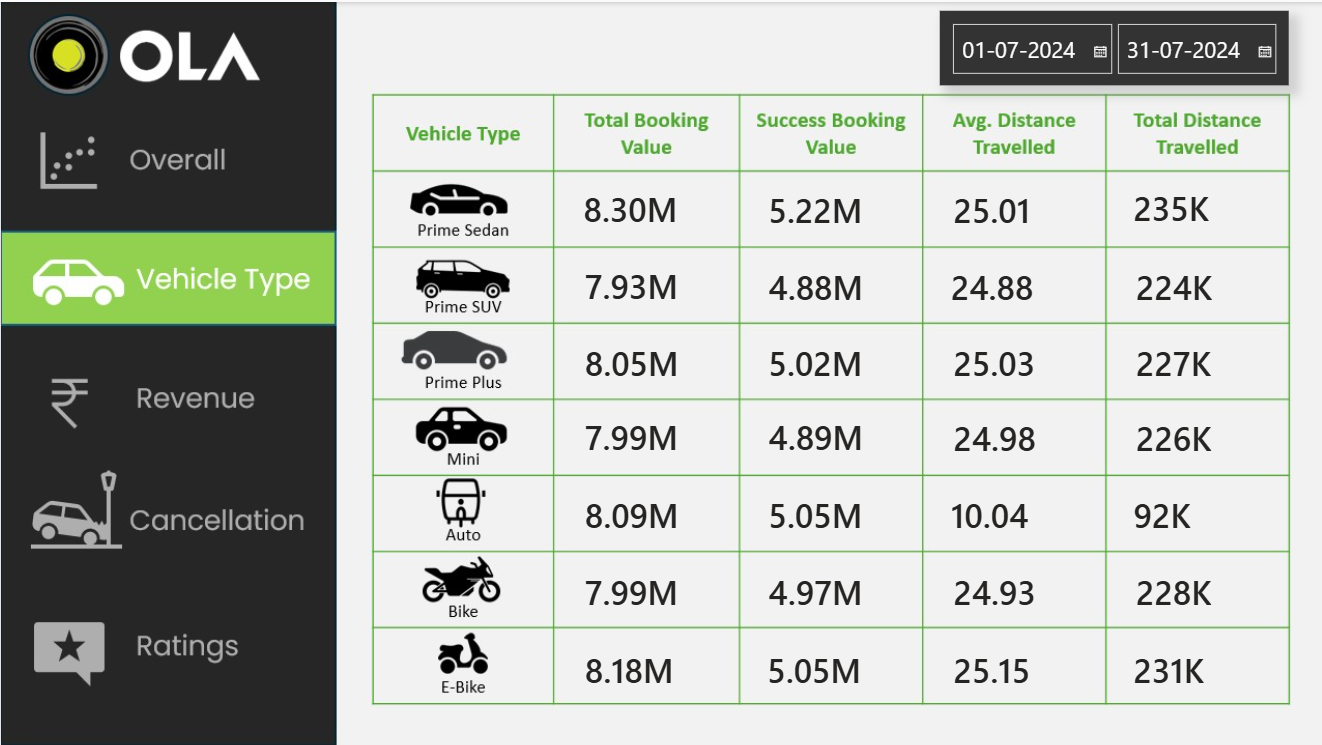

The dashboard page shown, as its layout file describes it:
{"tool":"powerbi","page":{"name":"Vehicle Type","canvas":[1280,720],"ordinal":1},"visuals":[{"type":"actionButton","box":[0,219.6,323.3,91.7],"z":0},{"type":"actionButton","box":[0,336.6,323.3,91.7],"z":1000},{"type":"actionButton","box":[0,454.8,323.3,91.7],"z":2000},{"type":"actionButton","box":[0,579.1,323.3,91.7],"z":3000},{"type":"actionButton","box":[0,108.6,323.3,91.7],"z":4000},{"type":"cardVisual","fields":{"Data":["Sum(July.Booking_Value)"]},"box":[533.8,161.6,177.5,73.6],"z":5000},{"type":"cardVisual","fields":{"Data":["Sum(July.Booking_Value)"]},"box":[533.9,234.9,176.2,74.8],"z":6000},{"type":"cardVisual","fields":{"Data":["Sum(July.Booking_Value)"]},"box":[533.9,309.7,176.2,74.8],"z":7000},{"type":"cardVisual","fields":{"Data":["Sum(July.Booking_Value)"]},"box":[533.9,380.9,176.2,74.8],"z":8000},{"type":"cardVisual","fields":{"Data":["Sum(July.Booking_Value)"]},"box":[533.9,455.6,176.2,74.8],"z":9000},{"type":"cardVisual","fields":{"Data":["Sum(July.Booking_Value)"]},"box":[533.9,530.4,176.2,74.8],"z":10000},{"type":"cardVisual","fields":{"Data":["Sum(July.Booking_Value)"]},"box":[533.9,605.1,176.2,74.8],"z":11000},{"type":"cardVisual","fields":{"Data":["Sum(July.Booking_Value)"]},"box":[711.9,162,176.2,74.8],"z":12000},{"type":"cardVisual","fields":{"Data":["Sum(July.Booking_Value)"]},"box":[711.9,236.7,176.2,74.8],"z":13000},{"type":"cardVisual","fields":{"Data":["Sum(July.Booking_Value)"]},"box":[711.9,309.7,176.2,74.8],"z":14000},{"type":"cardVisual","fields":{"Data":["Sum(July.Booking_Value)"]},"box":[711.9,380.9,176.2,74.8],"z":15000},{"type":"cardVisual","fields":{"Data":["Sum(July.Booking_Value)"]},"box":[711.9,455.6,176.2,74.8],"z":16000},{"type":"cardVisual","fields":{"Data":["Sum(July.Booking_Value)"]},"box":[711.9,530.4,176.2,74.8],"z":17000},{"type":"cardVisual","fields":{"Data":["Sum(July.Booking_Value)"]},"box":[710.1,605.1,176.2,74.8],"z":18000},{"type":"cardVisual","fields":{"Data":["Avg(July.Ride_Distance)"]},"box":[889.9,162,176.2,74.8],"z":19000},{"type":"cardVisual","fields":{"Data":["Avg(July.Ride_Distance)"]},"box":[888.1,236.7,176.2,74.8],"z":20000},{"type":"cardVisual","fields":{"Data":["Avg(July.Ride_Distance)"]},"box":[889.9,309.7,176.2,74.8],"z":21000},{"type":"cardVisual","fields":{"Data":["Avg(July.Ride_Distance)"]},"box":[889.9,382.7,176.2,74.8],"z":22000},{"type":"cardVisual","fields":{"Data":["Avg(July.Ride_Distance)"]},"box":[888.1,455.6,176.2,74.8],"z":23000},{"type":"cardVisual","fields":{"Data":["Avg(July.Ride_Distance)"]},"box":[889.9,530.4,176.2,74.8],"z":24000},{"type":"cardVisual","fields":{"Data":["Avg(July.Ride_Distance)"]},"box":[889.9,605.1,176.2,74.8],"z":25000},{"type":"cardVisual","fields":{"Data":["Sum(July.Ride_Distance)"]},"box":[1064.3,160.2,176.2,74.8],"z":26000},{"type":"cardVisual","fields":{"Data":["Sum(July.Ride_Distance)"]},"box":[1066.1,236.7,176.2,74.8],"z":27000},{"type":"cardVisual","fields":{"Data":["Sum(July.Ride_Distance)"]},"box":[1066.1,309.7,176.2,74.8],"z":28000},{"type":"cardVisual","fields":{"Data":["Sum(July.Ride_Distance)"]},"box":[1066.1,382.7,176.2,74.8],"z":29000},{"type":"cardVisual","fields":{"Data":["Sum(July.Ride_Distance)"]},"box":[1064.3,455.6,176.2,74.8],"z":30000},{"type":"cardVisual","fields":{"Data":["Sum(July.Ride_Distance)"]},"box":[1066.1,530.4,176.2,74.8],"z":31000},{"type":"cardVisual","fields":{"Data":["Sum(July.Ride_Distance)"]},"box":[1064.3,605.1,176.2,74.8],"z":32000},{"type":"slicer","title":"Date","fields":{"Values":["July.Date"]},"box":[906,8.4,336.6,72.4],"z":33000}]}

Visuals, with their boxes on the page's 1280x720 design canvas (x1, y1, x2, y2). These are canvas units, not pixel positions in the 1322x745 screenshot, which may show the page scaled, cropped or inside an application window:
actionButton: 0,220,323,311
actionButton: 0,337,323,428
actionButton: 0,455,323,546
actionButton: 0,579,323,671
actionButton: 0,109,323,200
cardVisual - Sum(July.Booking_Value): 534,162,711,235
cardVisual - Sum(July.Booking_Value): 534,235,710,310
cardVisual - Sum(July.Booking_Value): 534,310,710,384
cardVisual - Sum(July.Booking_Value): 534,381,710,456
cardVisual - Sum(July.Booking_Value): 534,456,710,530
cardVisual - Sum(July.Booking_Value): 534,530,710,605
cardVisual - Sum(July.Booking_Value): 534,605,710,680
cardVisual - Sum(July.Booking_Value): 712,162,888,237
cardVisual - Sum(July.Booking_Value): 712,237,888,312
cardVisual - Sum(July.Booking_Value): 712,310,888,384
cardVisual - Sum(July.Booking_Value): 712,381,888,456
cardVisual - Sum(July.Booking_Value): 712,456,888,530
cardVisual - Sum(July.Booking_Value): 712,530,888,605
cardVisual - Sum(July.Booking_Value): 710,605,886,680
cardVisual - Avg(July.Ride_Distance): 890,162,1066,237
cardVisual - Avg(July.Ride_Distance): 888,237,1064,312
cardVisual - Avg(July.Ride_Distance): 890,310,1066,384
cardVisual - Avg(July.Ride_Distance): 890,383,1066,458
cardVisual - Avg(July.Ride_Distance): 888,456,1064,530
cardVisual - Avg(July.Ride_Distance): 890,530,1066,605
cardVisual - Avg(July.Ride_Distance): 890,605,1066,680
cardVisual - Sum(July.Ride_Distance): 1064,160,1240,235
cardVisual - Sum(July.Ride_Distance): 1066,237,1242,312
cardVisual - Sum(July.Ride_Distance): 1066,310,1242,384
cardVisual - Sum(July.Ride_Distance): 1066,383,1242,458
cardVisual - Sum(July.Ride_Distance): 1064,456,1240,530
cardVisual - Sum(July.Ride_Distance): 1066,530,1242,605
cardVisual - Sum(July.Ride_Distance): 1064,605,1240,680
"Date" slicer: 906,8,1243,81
